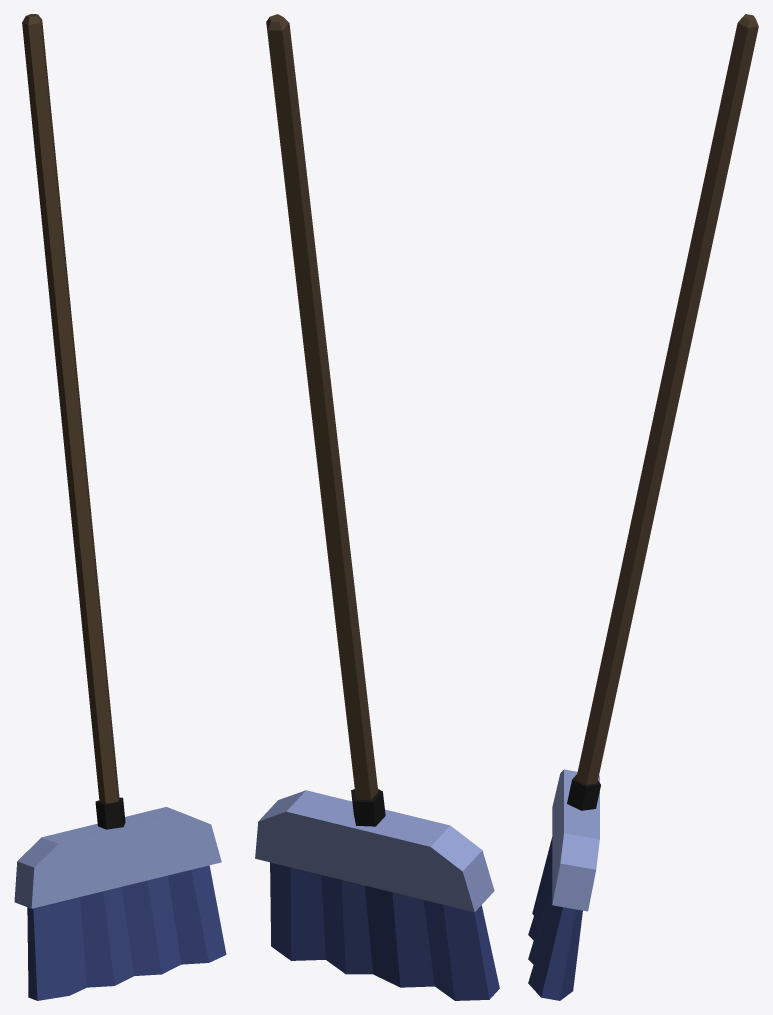
Rendered from Broom.glb.
3 renders of one model, left to right at view 1: azimuth 30°, elevation 25°; view 2: azimuth 150°, elevation 25°; view 3: azimuth 270°, elevation 25°, orthographic. The views are drawn at different scales.
Parts seen in each view (by area): view 1: Broom; view 2: Broom; view 3: Broom.
Part boxes in pixels (box(x1,y1,x2,y2)): Broom: box(14, 14, 226, 1000); Broom: box(255, 14, 499, 1000); Broom: box(528, 14, 758, 1000).
Bounding box in the file's own units: 0.4117 × 1.85 × 0.4127.
Materials: 1 (1 with a texture image).
